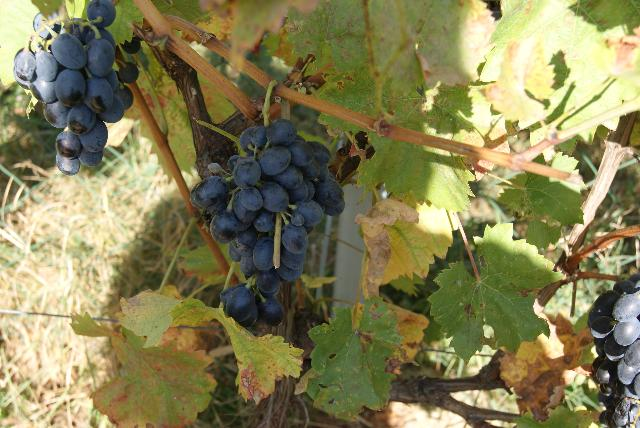grapes: (191, 119, 345, 328), (14, 0, 138, 175), (586, 275, 640, 428)
